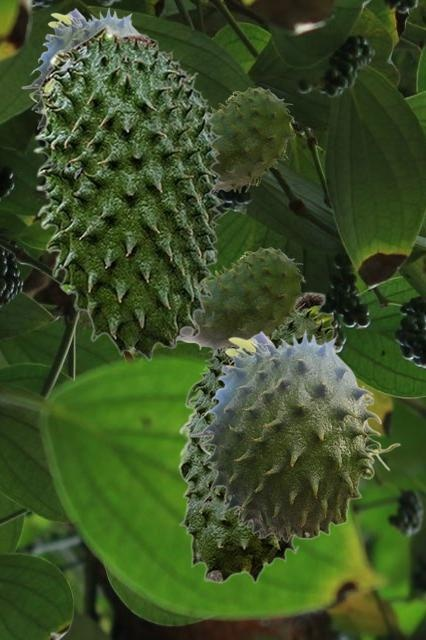guyabano: (33, 23, 225, 360), (177, 291, 339, 583), (189, 328, 400, 542), (21, 6, 138, 130), (179, 247, 305, 355), (210, 87, 295, 193)
